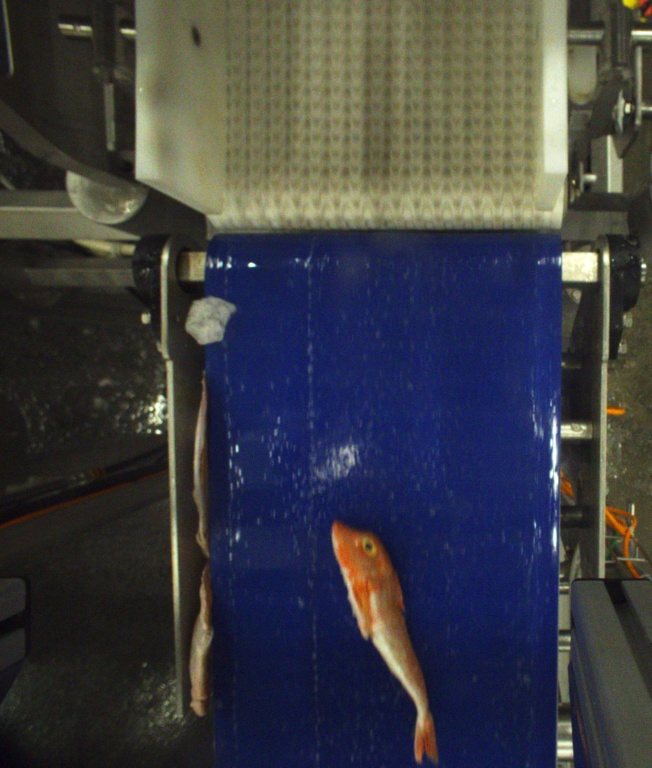GUU: (330, 522, 438, 762)
